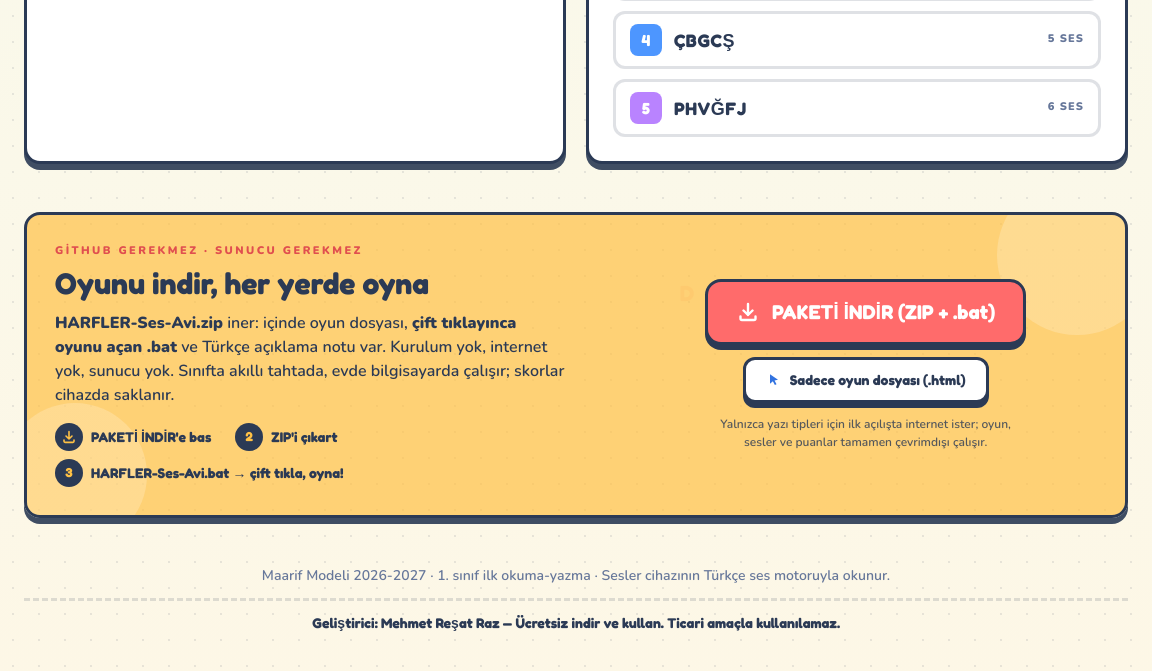
Test: indirme › dosya hazır olunca tıklanabilir yedek bağlantı da gösterilir
(page scrolled)
Click the button "PAKETİ İNDİR (ZIP + .bat)": click(866, 312) [705,278,1026,344]
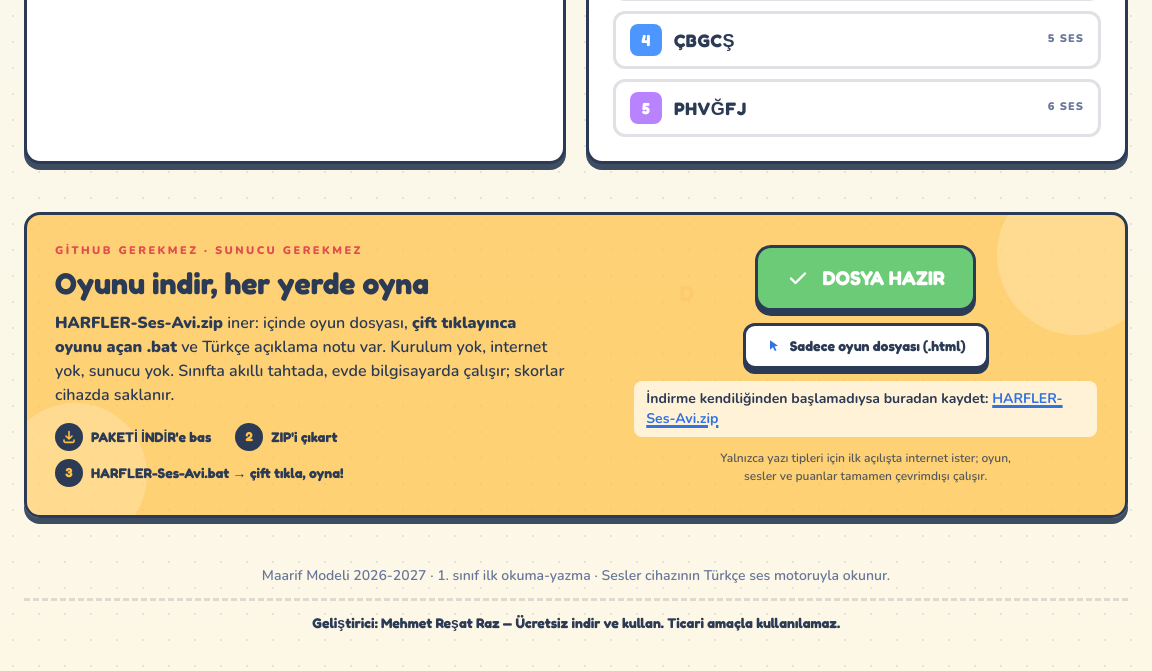
Check: the text "DOSYA HAZIR" is shown, box [755,244,976,310]
